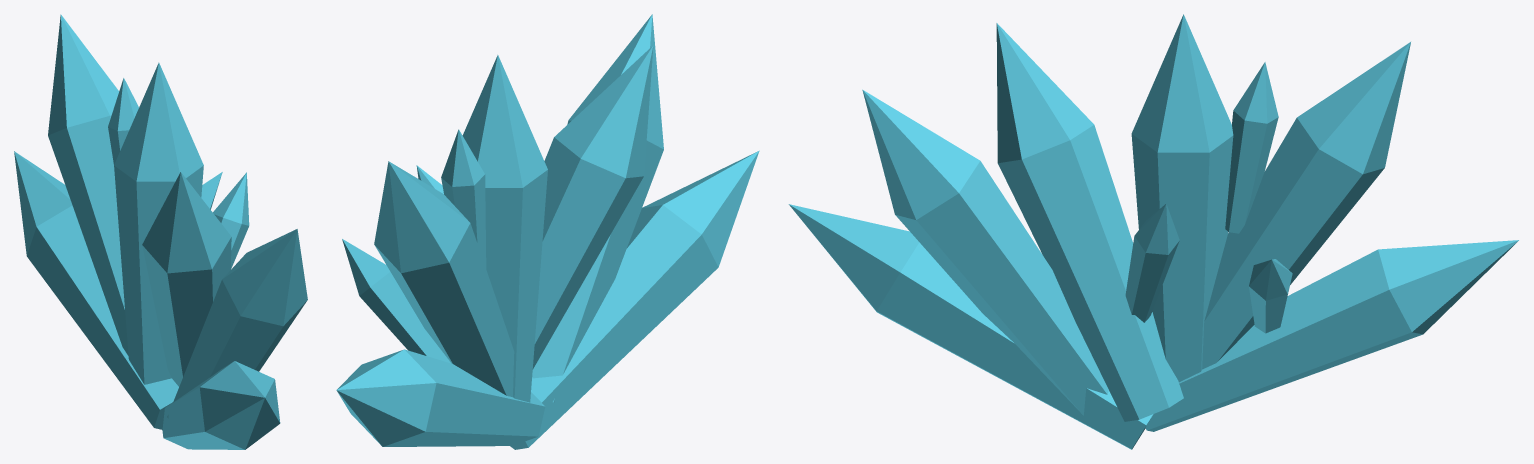
File: Valla.fbx
3 views of the same model, side by side, from view 1: azimuth 30°, elevation 25°; view 2: azimuth 150°, elevation 25°; view 3: azimuth 270°, elevation 25° (orthographic). The views are drawn at different scales.
Visible parts, largest first — view 1: Cylinder, Cylinder.002, Cylinder.005, Cylinder.001, Cylinder.006, Cylinder.007, Cylinder.004, Cylinder.003, Cylinder.008; view 2: Cylinder.007, Cylinder.001, Cylinder.002, Cylinder, Cylinder.005, Cylinder.006, Cylinder.008, Cylinder.003; view 3: Cylinder.001, Cylinder.006, Cylinder.005, Cylinder.002, Cylinder, Cylinder.007, Cylinder.003, Cylinder.004, Cylinder.008.
Part boxes in pixels (bbox=[...]): Cylinder: bbox=[114, 62, 203, 384]; Cylinder.002: bbox=[48, 14, 128, 355]; Cylinder.005: bbox=[14, 151, 178, 429]; Cylinder.001: bbox=[142, 172, 231, 386]; Cylinder.006: bbox=[167, 229, 307, 418]; Cylinder.007: bbox=[162, 361, 280, 449]; Cylinder.004: bbox=[213, 172, 249, 268]; Cylinder.003: bbox=[108, 78, 138, 164]; Cylinder.008: bbox=[201, 172, 222, 209]; Cylinder.007: bbox=[510, 150, 759, 449]; Cylinder.001: bbox=[532, 45, 653, 369]; Cylinder.002: bbox=[374, 161, 514, 397]; Cylinder: bbox=[462, 55, 547, 402]; Cylinder.005: bbox=[336, 349, 545, 446]; Cylinder.006: bbox=[532, 14, 663, 402]; Cylinder.008: bbox=[342, 239, 451, 363]; Cylinder.003: bbox=[441, 129, 486, 268]; Cylinder.001: bbox=[996, 23, 1183, 421]; Cylinder.006: bbox=[862, 89, 1108, 415]; Cylinder.005: bbox=[1145, 240, 1518, 431]; Cylinder.002: bbox=[1202, 42, 1410, 369]; Cylinder: bbox=[1131, 14, 1233, 382]; Cylinder.007: bbox=[788, 204, 1153, 449]; Cylinder.003: bbox=[1225, 62, 1278, 233]; Cylinder.004: bbox=[1125, 204, 1179, 322]; Cylinder.008: bbox=[1249, 259, 1292, 333].
Size of the model in its own units: 217 by 434 by 665.
